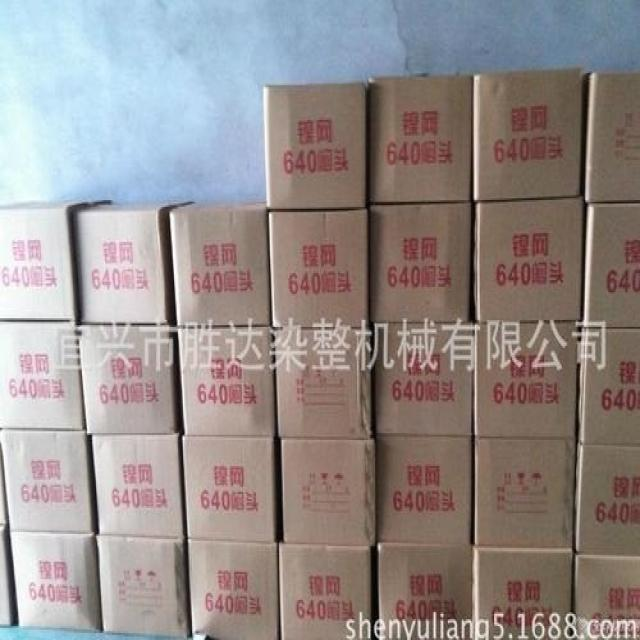box: (74, 201, 196, 325), (471, 68, 583, 200), (471, 198, 582, 323), (366, 75, 471, 207), (263, 82, 367, 211), (0, 199, 109, 321), (367, 202, 471, 325), (169, 201, 270, 326), (474, 321, 580, 436), (269, 207, 367, 328), (371, 323, 475, 436), (474, 436, 576, 549), (79, 326, 181, 434), (179, 327, 278, 438), (273, 328, 373, 437), (375, 436, 472, 546), (280, 437, 376, 547), (182, 435, 276, 544), (91, 436, 185, 541), (1, 428, 94, 534), (95, 536, 188, 638), (374, 544, 474, 638), (473, 544, 573, 638), (9, 534, 101, 634), (186, 540, 279, 638), (277, 543, 373, 637), (0, 323, 85, 429), (581, 71, 639, 203), (573, 444, 639, 557), (581, 202, 639, 329), (578, 327, 639, 447), (572, 556, 639, 638), (0, 528, 18, 625), (1, 435, 8, 528)
